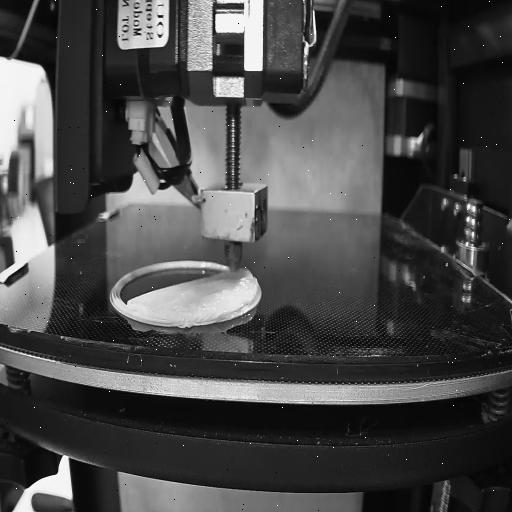over_extrusion: (242, 261, 260, 306)
